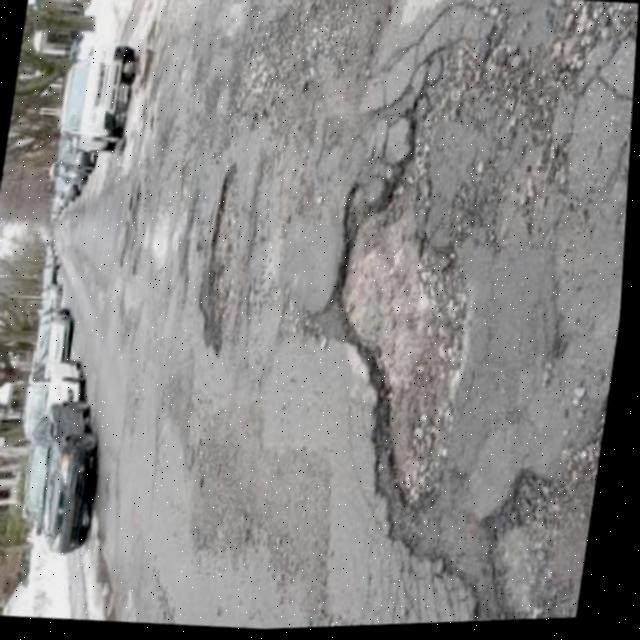Pothole: (293, 143, 493, 531), (476, 463, 582, 625), (194, 158, 259, 353)
